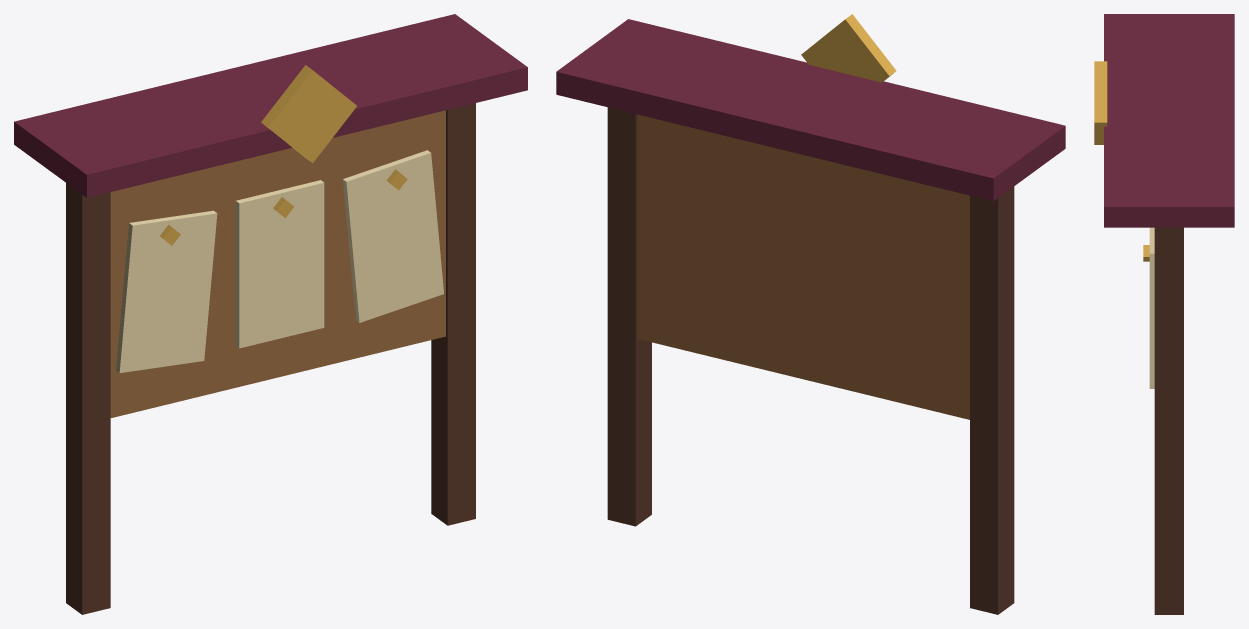
File: AdventurerQuestBoard.glb
3 views of the same model, side by side, from view 1: azimuth 30°, elevation 25°; view 2: azimuth 150°, elevation 25°; view 3: azimuth 270°, elevation 25° (orthographic). The views are drawn at different scales.
Visible parts, largest first — view 1: AdventurerQuestBoard; view 2: AdventurerQuestBoard; view 3: AdventurerQuestBoard.
Boxes of the visible parts, bbox=[...] form: AdventurerQuestBoard: bbox=[14, 14, 527, 614]; AdventurerQuestBoard: bbox=[556, 14, 1065, 614]; AdventurerQuestBoard: bbox=[1094, 14, 1234, 614].
Bounding box in the file's own units: 7 × 7.91 × 2.15.
